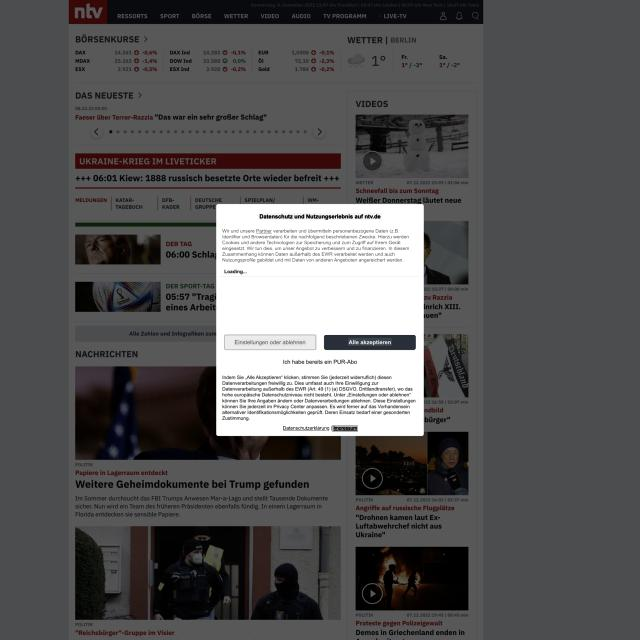CheckBox: (224, 334, 317, 350), (324, 334, 416, 350), (282, 424, 330, 432), (332, 425, 358, 432)
Input field: (220, 226, 411, 266)
breadcrumbs: (258, 213, 382, 220)
data feed: (234, 339, 306, 346), (348, 338, 392, 346)
